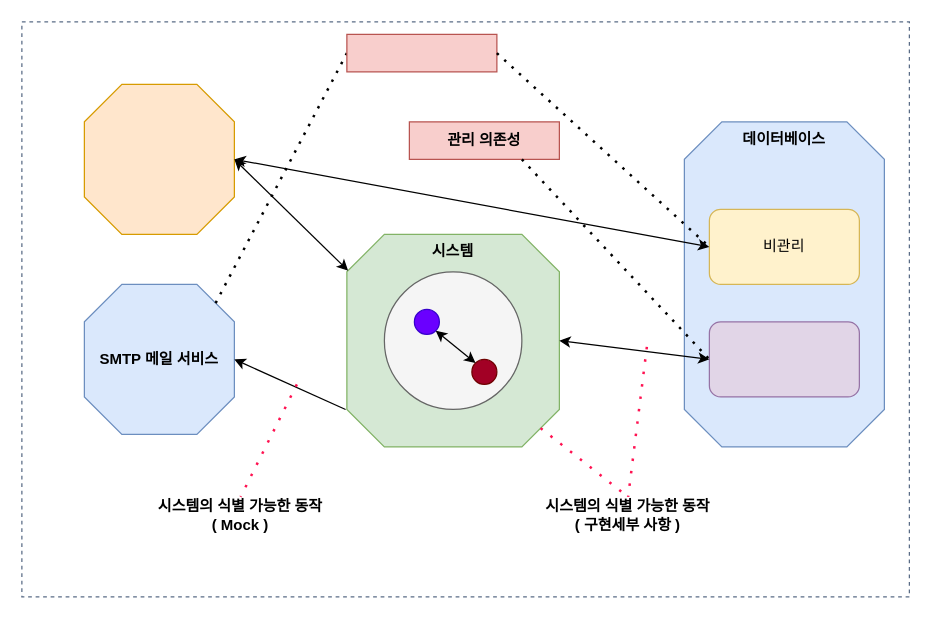
The diagram is 931 pixels wide and 619 high, and some of its shapes have lost their labels. The shapes that lost their labels are listed below. From the top down, each one's box as (x1, y1, x2, y2) in pixels, then its label:
(346, 33, 497, 72): 비관리 의존성
(83, 83, 234, 234): 외부 서드파티 시스템 ( External Client )
(708, 321, 859, 397): 관리
